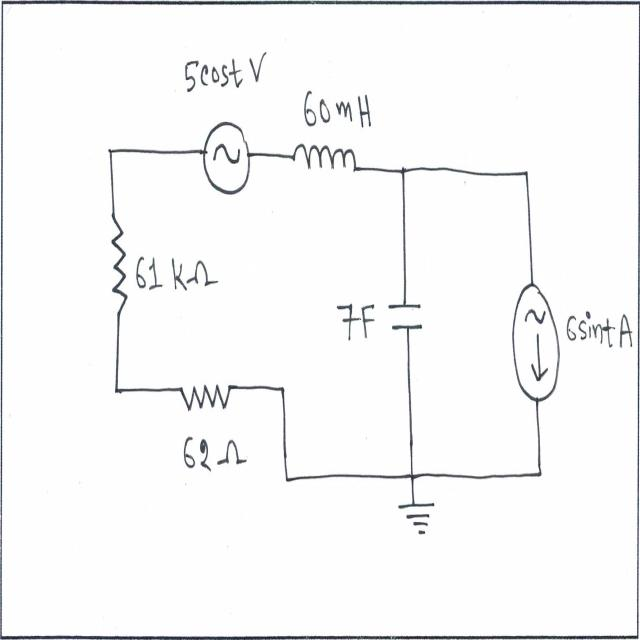ac_current: (198, 114, 252, 206)
capacitor: (379, 289, 434, 343)
current_source: (509, 282, 565, 406)
ground: (398, 489, 442, 544)
inductor: (287, 139, 363, 191)
resistor: (173, 369, 235, 421), (104, 206, 129, 324)
